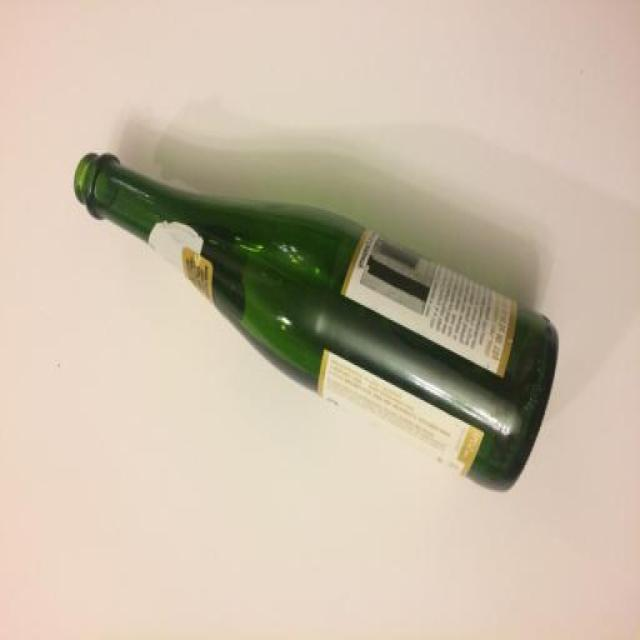glass: (72, 152, 560, 492)
